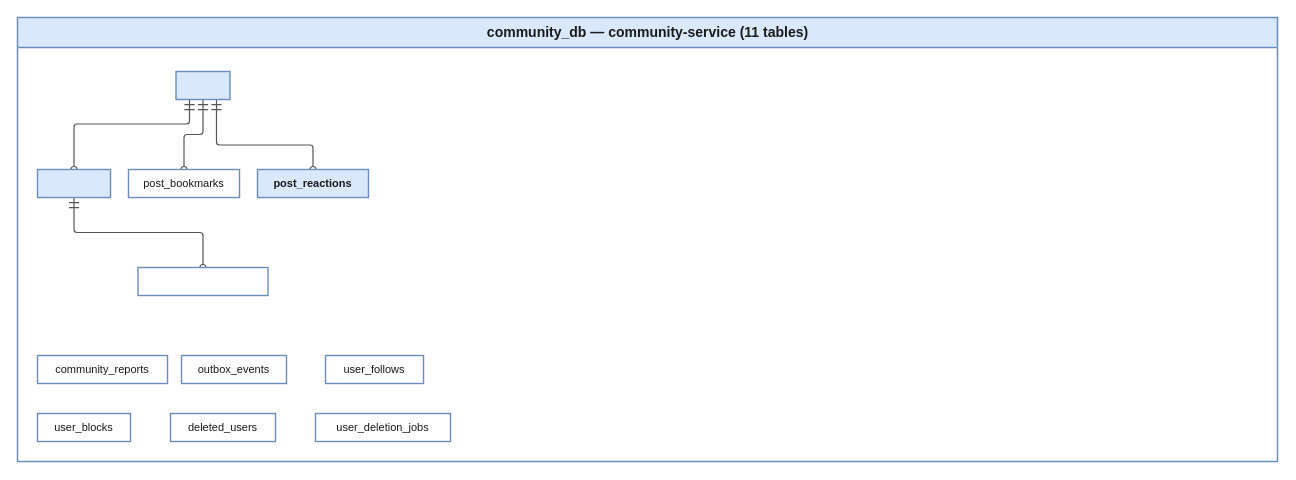
Image size: 1296x480. Some labels were removed from this diagram. The shapes that lost their labels are listed below. From the top down, each one's centre as x and y in pixels, then its label:
(x=202, y=85): posts
(x=73, y=183): comments
(x=202, y=281): comment_reactions
